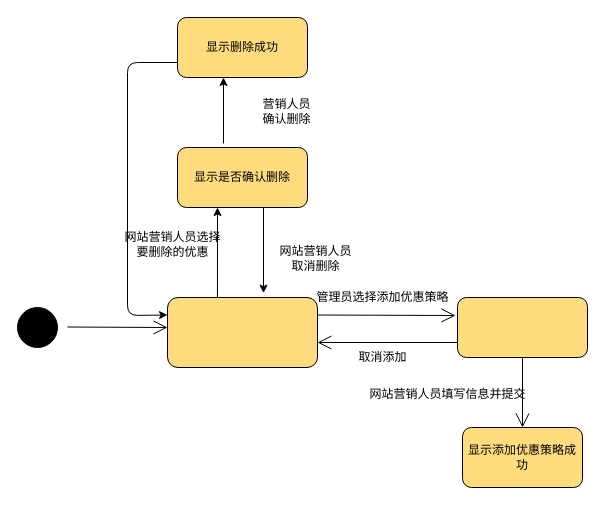
This 605x505 diagram has some shape labels left out. Here are the shapes that lost their labels. From the top down, the box of each, then its label:
(166, 296, 318, 368): 空闲
(456, 296, 588, 358): 显示需要填写的表单
